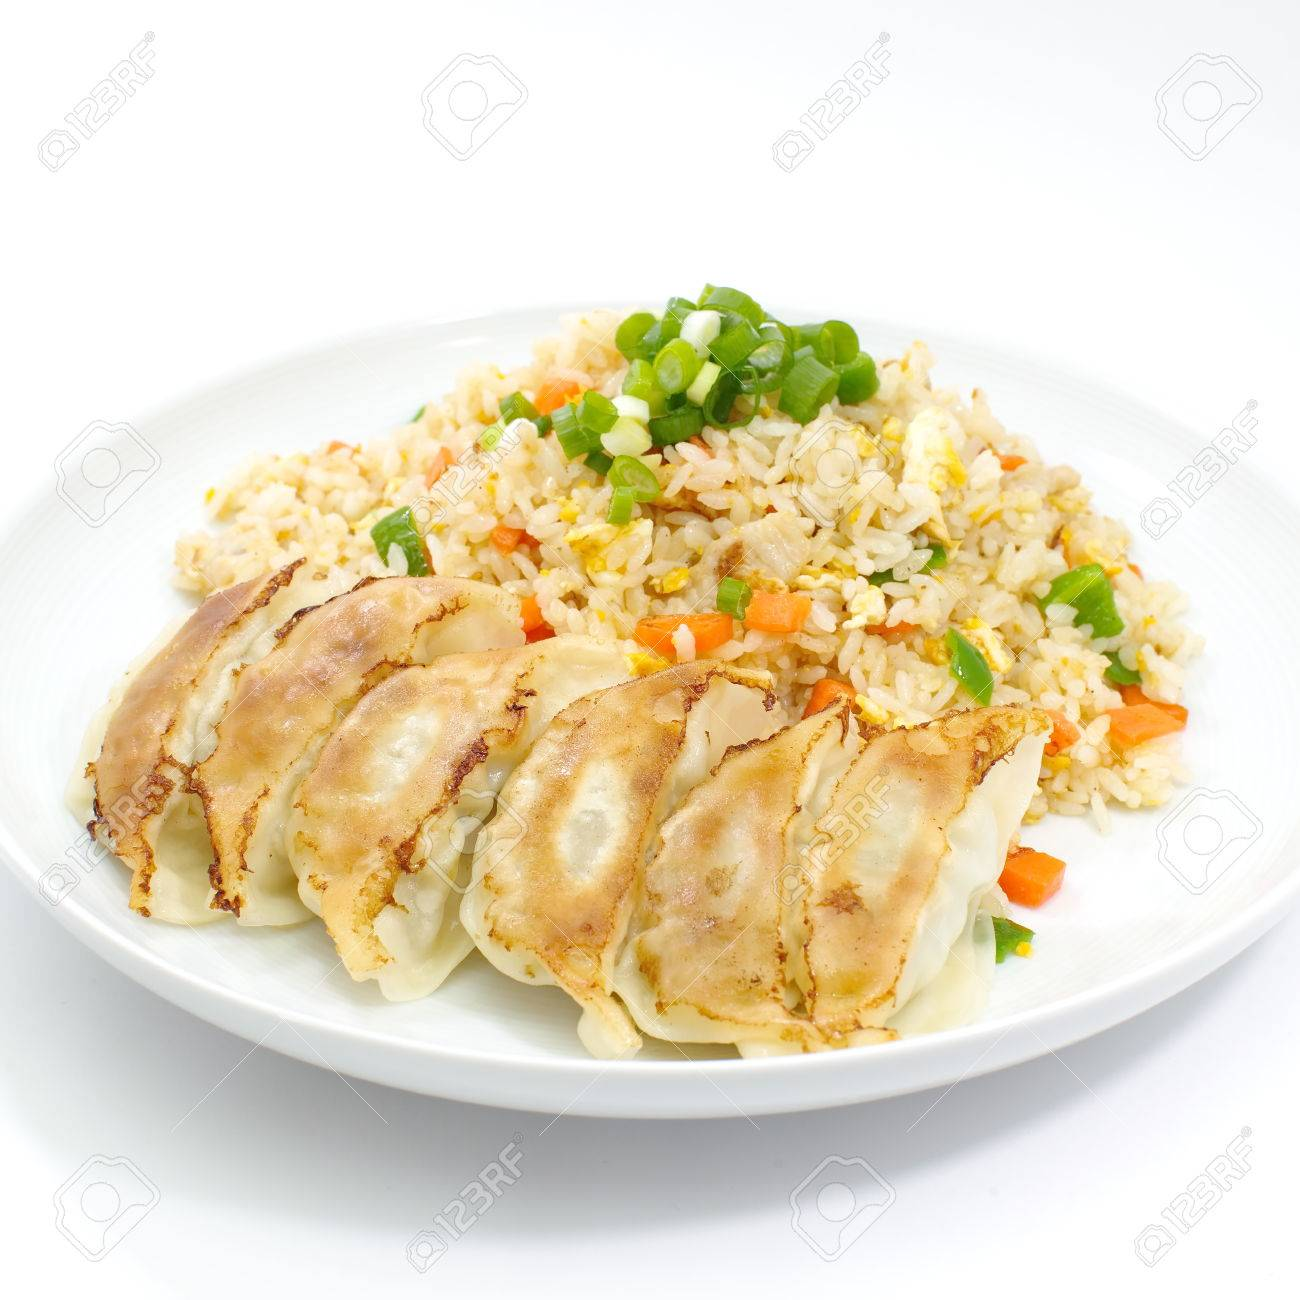fried_dumplings: (815, 721, 996, 1040), (232, 568, 376, 907), (87, 543, 220, 904), (499, 664, 640, 980), (401, 675, 511, 1010), (690, 721, 796, 1048), (626, 705, 726, 1032), (319, 632, 418, 946)
